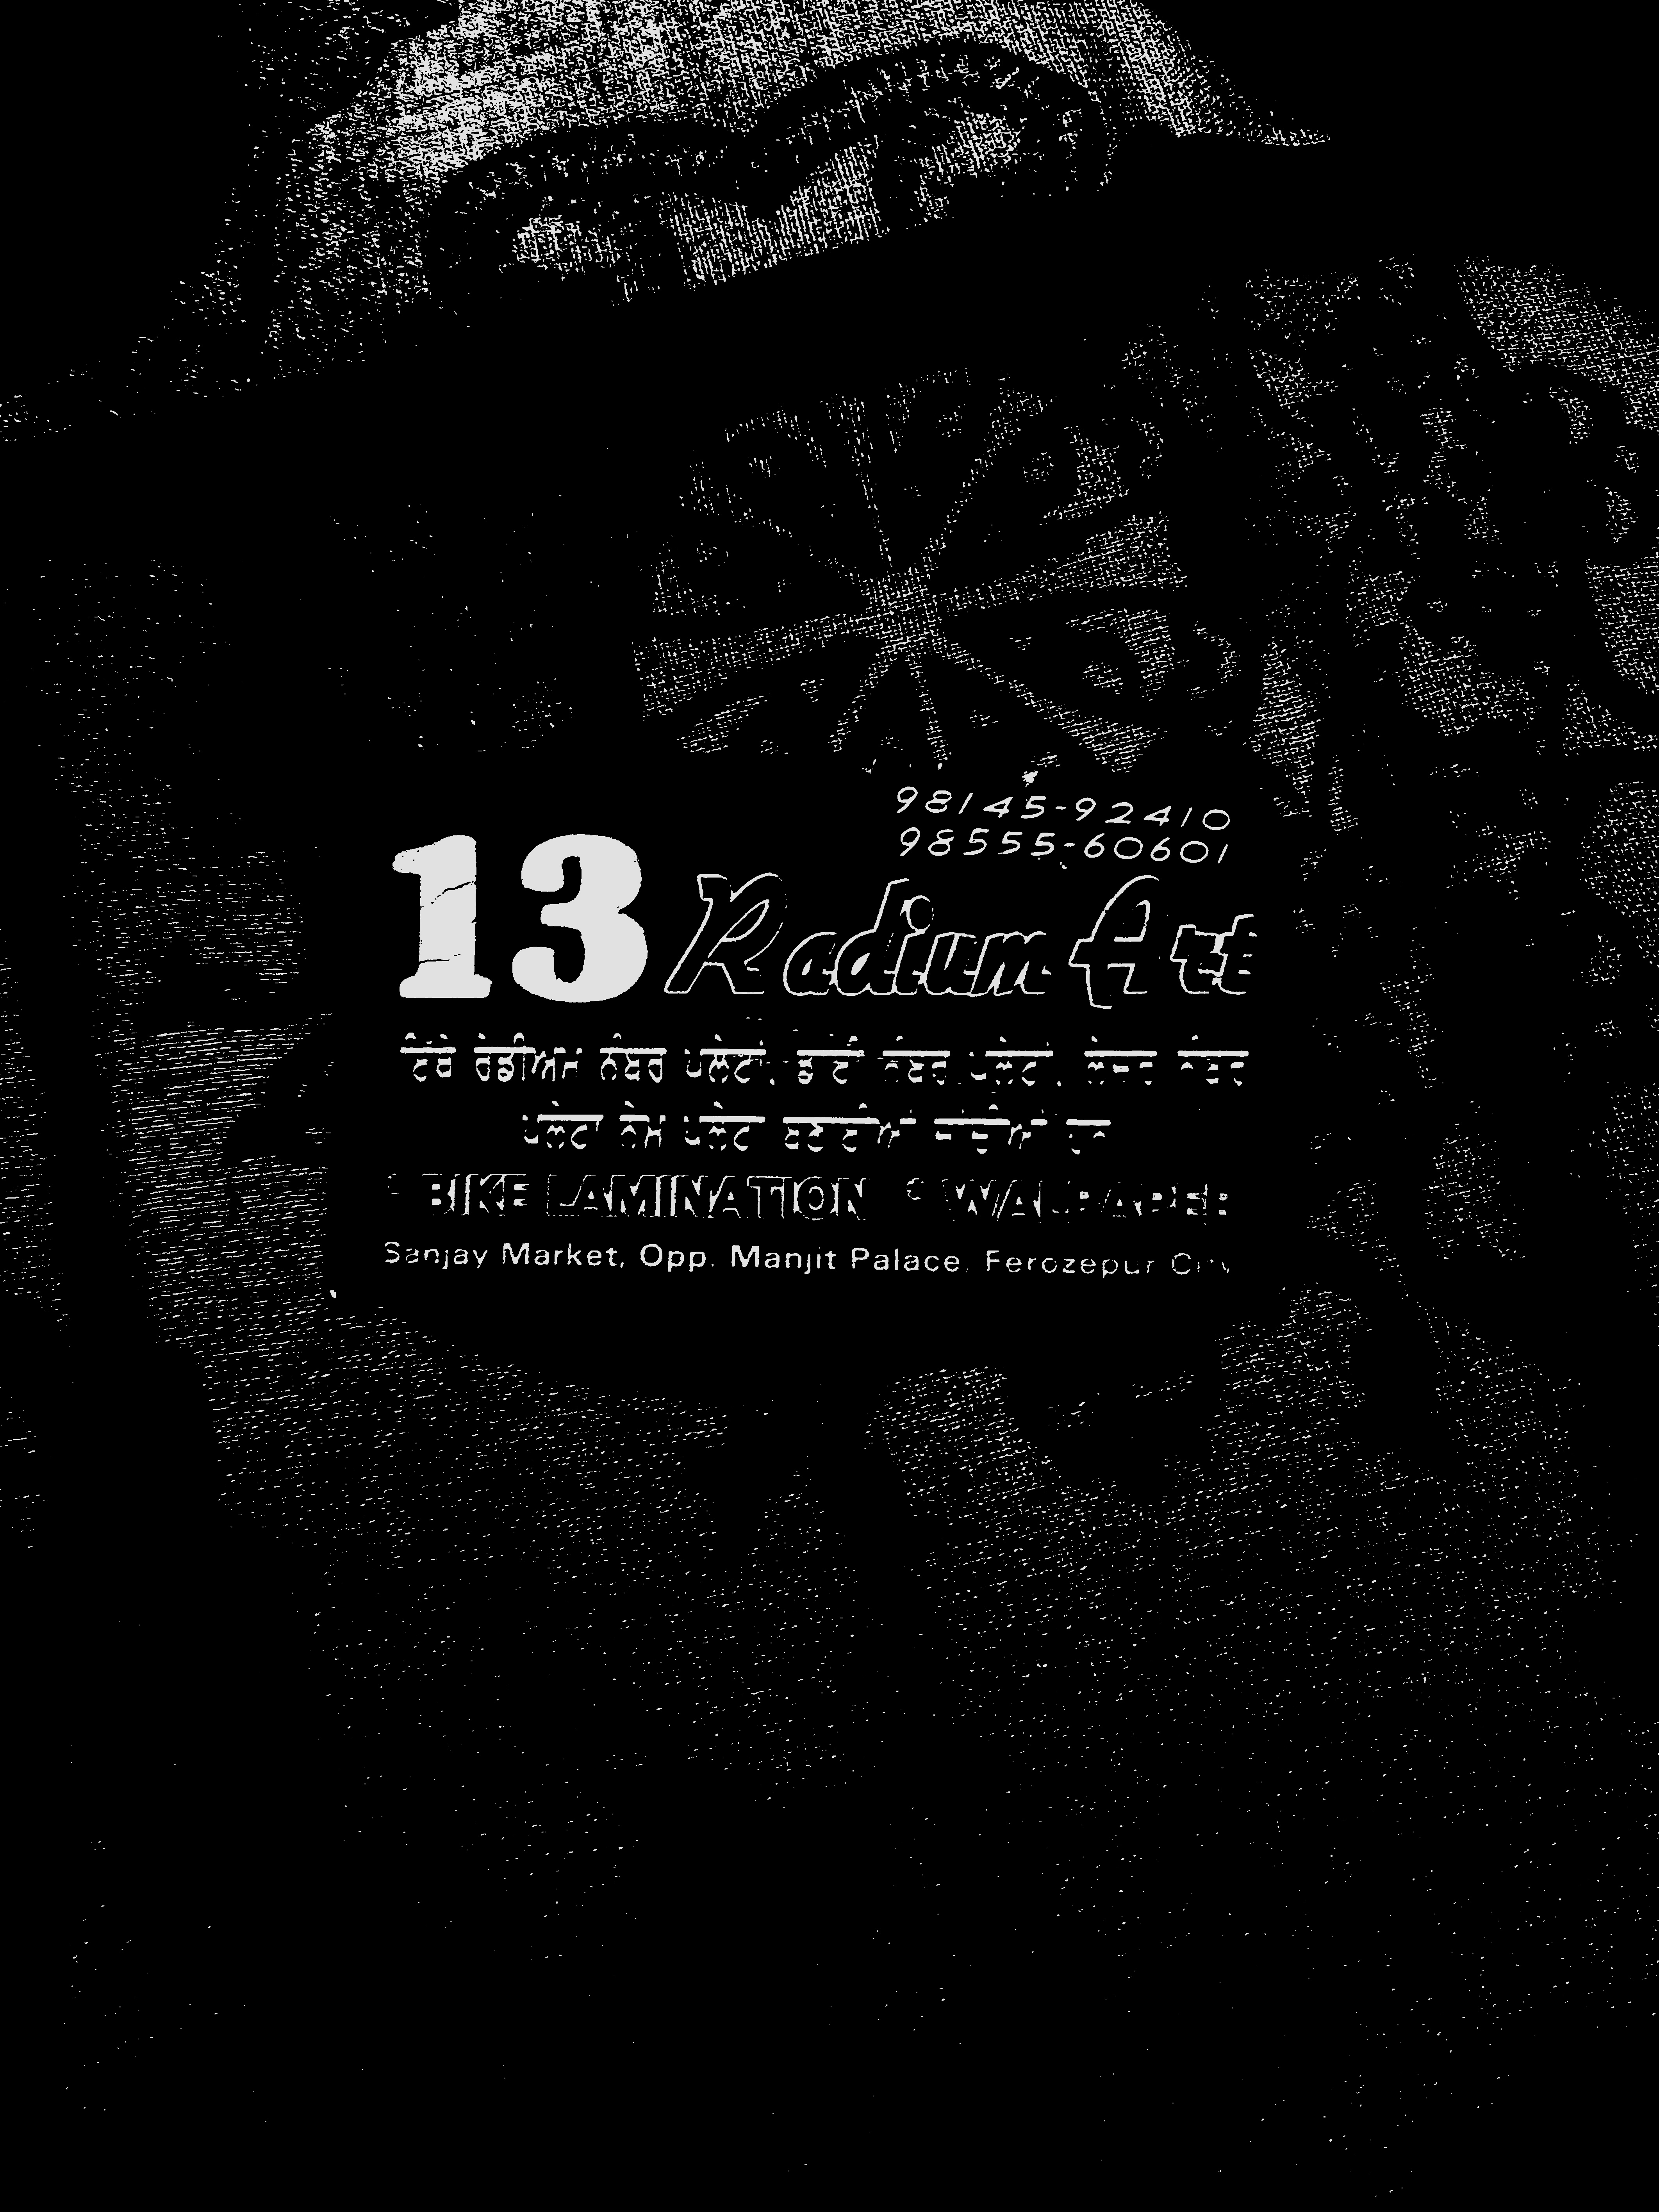text: (335, 742, 1297, 1312)
